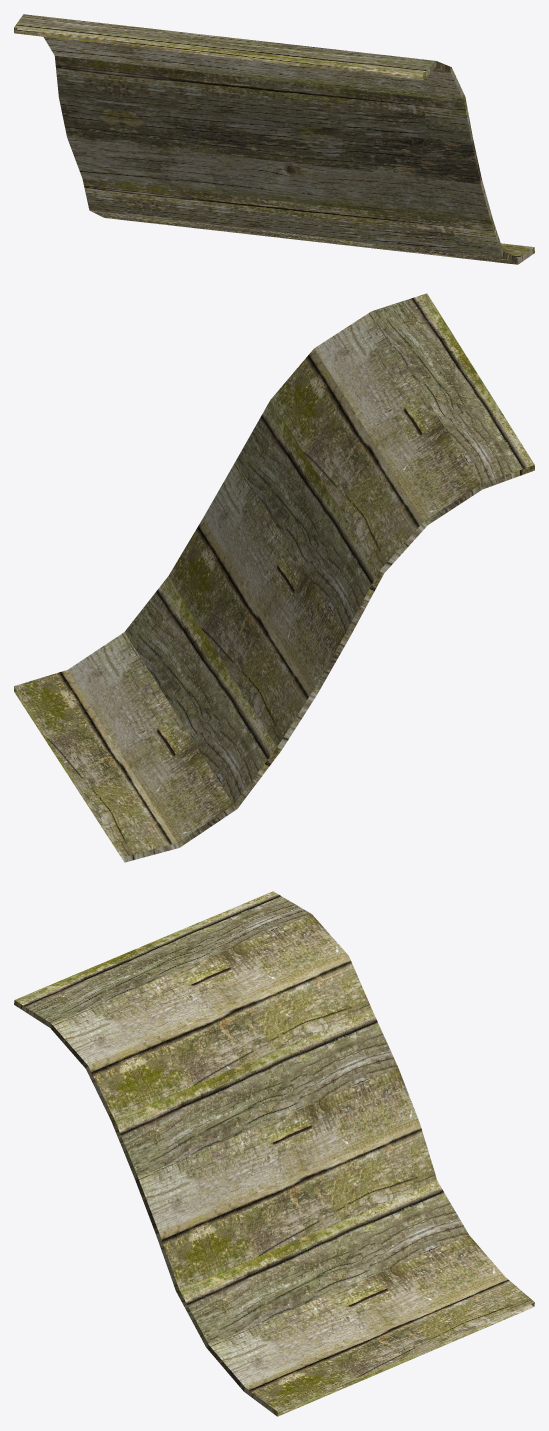
File: Ramp_1_colider.fbx
The picture shows the model from 3 angles, top to bottom: view 1: azimuth 30°, elevation 25°; view 2: azimuth 150°, elevation 25°; view 3: azimuth 270°, elevation 25°; orthographic projection. The views are drawn at different scales.
Visible parts, largest first — view 1: ramp; view 2: ramp; view 3: ramp.
Part boxes in pixels (x1=…): ramp: x1=14, y1=14, x2=534, y2=264; ramp: x1=14, y1=293, x2=534, y2=862; ramp: x1=14, y1=891, x2=534, y2=1416.
Bounding box in the file's own units: 285 × 185 × 285.
